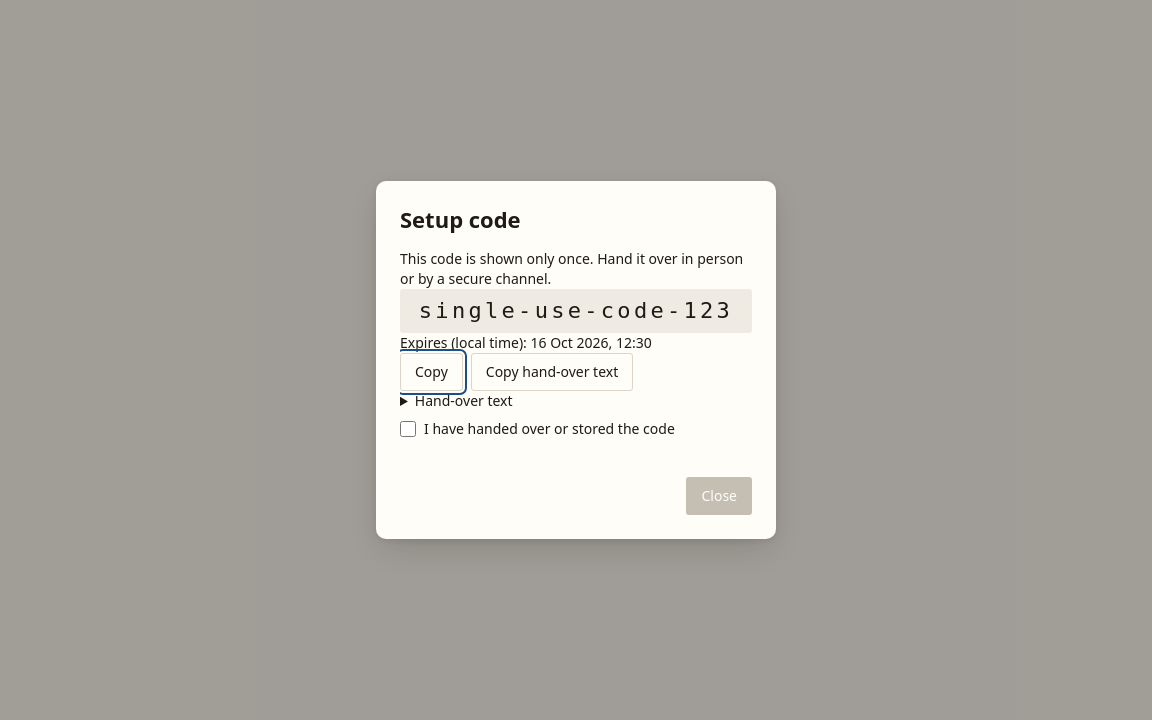
Scenario: one-time code dialog › keeps the code when the clipboard API is unavailable
Click the button "Copy" at x=431, y=372, box x1=400 y1=353 x2=463 y2=391
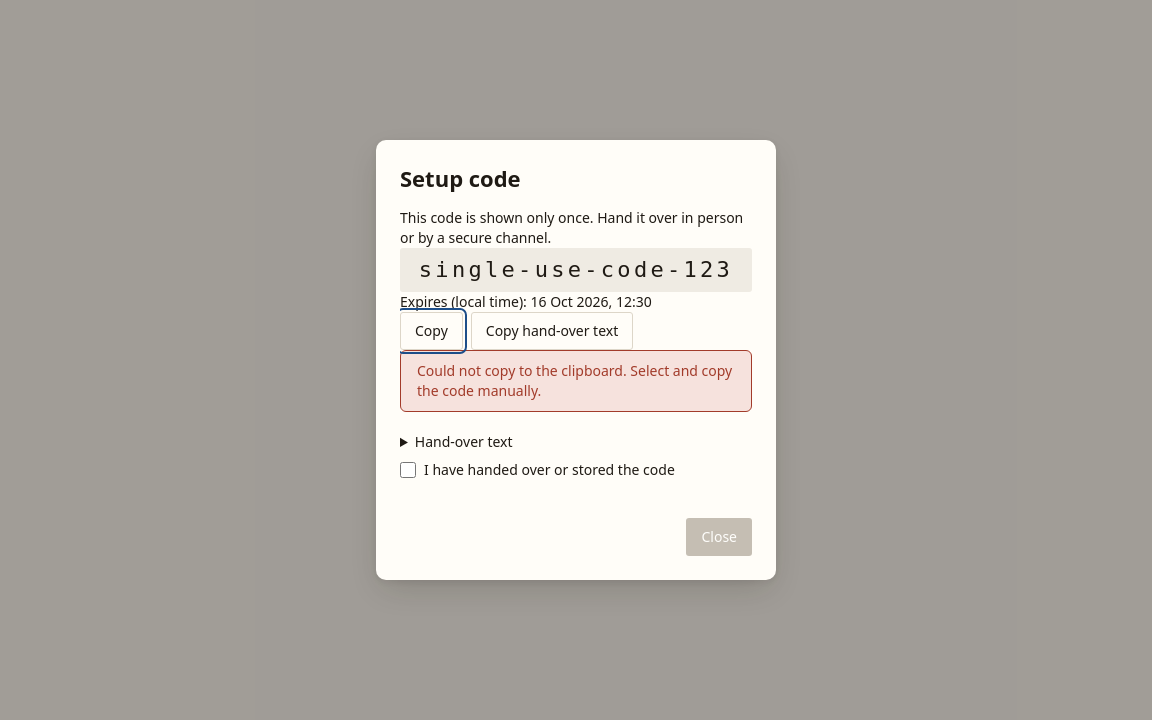
Expected: the text "single-use-code-123" is shown, x1=400 y1=248 x2=752 y2=292
Expected: the message shows "copy the code manually", x1=417 y1=361 x2=732 y2=400
